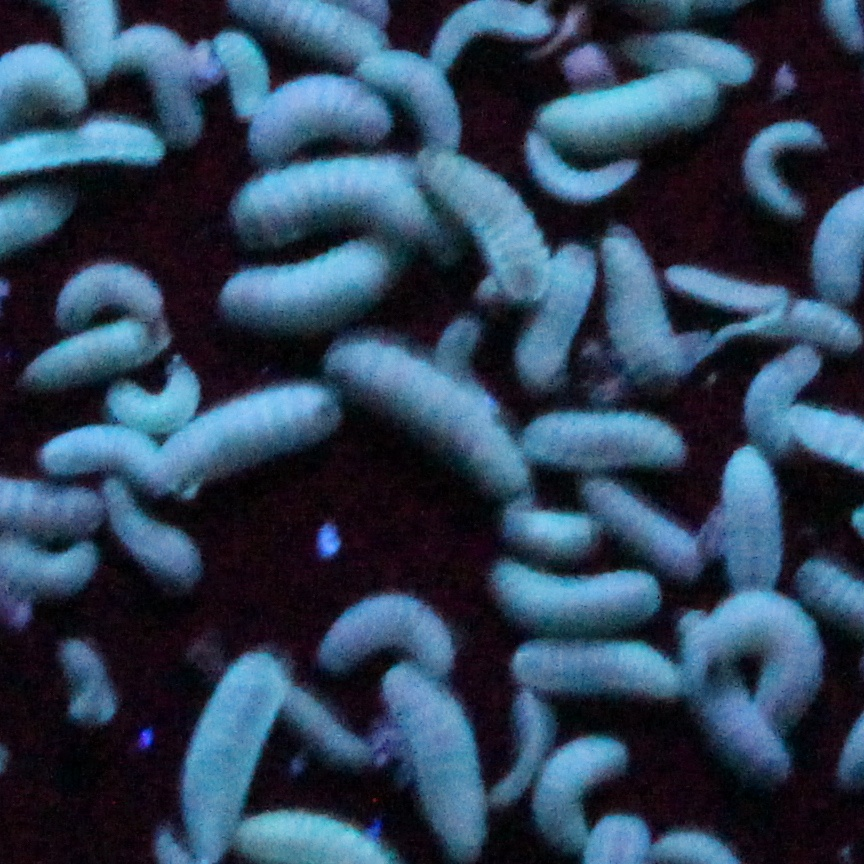larve: (335, 347, 525, 488), (380, 670, 496, 862), (177, 642, 284, 847), (433, 154, 548, 294), (680, 627, 781, 784), (220, 248, 413, 330), (164, 391, 333, 481), (227, 164, 423, 241), (703, 586, 817, 716), (296, 586, 457, 673), (491, 562, 659, 636), (601, 227, 680, 382), (714, 444, 789, 588), (105, 486, 203, 596), (595, 486, 707, 582), (498, 644, 680, 700), (533, 738, 624, 848), (120, 31, 209, 138), (521, 250, 591, 382), (243, 87, 391, 149), (25, 326, 172, 386), (519, 138, 648, 206), (368, 60, 469, 145), (539, 95, 717, 143), (734, 124, 818, 218), (46, 258, 161, 326), (525, 415, 678, 464), (675, 263, 788, 323), (495, 684, 548, 810), (35, 429, 153, 480), (498, 507, 606, 561), (103, 374, 203, 426), (213, 36, 274, 116)
